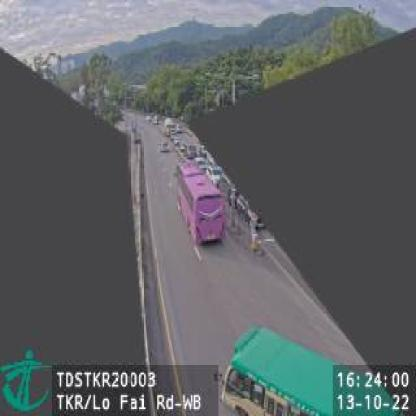Bus: (177, 158, 226, 243)
Car: (160, 140, 171, 154)
Minibus: (211, 327, 349, 416)
